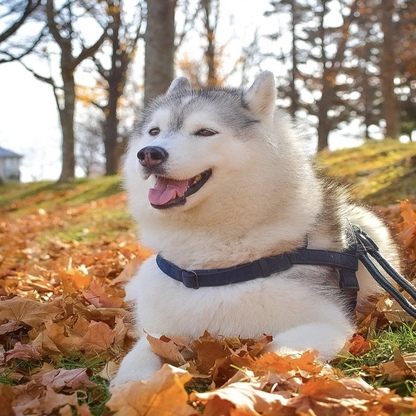husky: (105, 67, 416, 398)
